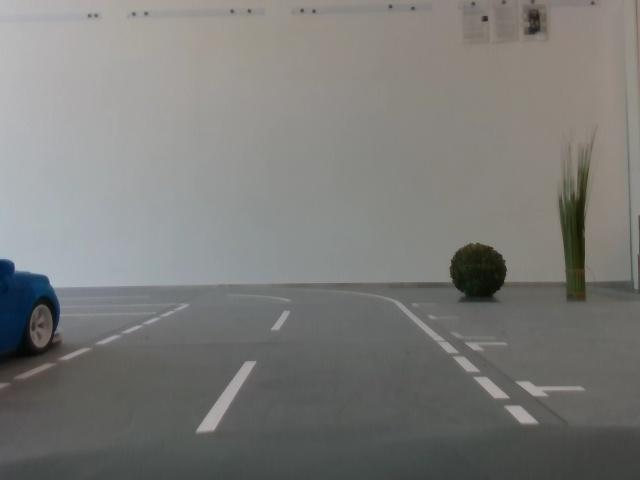car: (1, 247, 70, 357)
potted plant: (555, 141, 590, 300), (446, 243, 510, 300)
